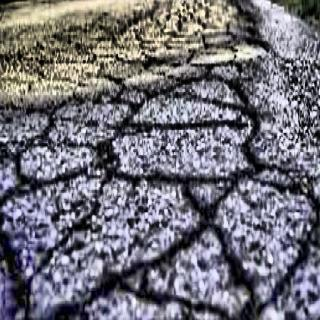alligator-crack: (0, 6, 305, 320)
